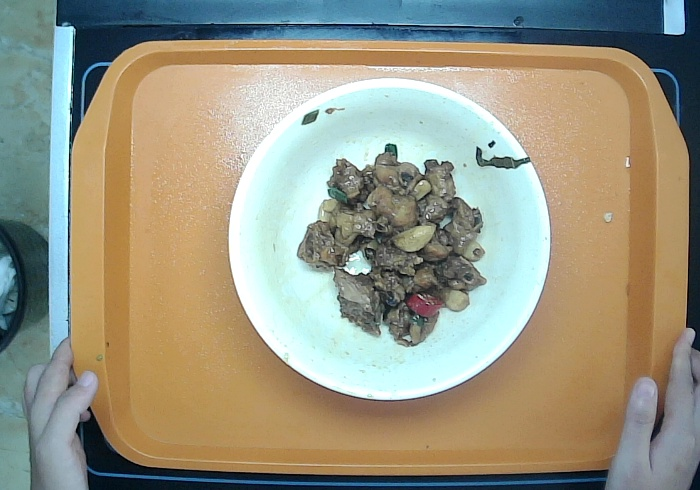ZNLD-Da_Tang_Wan: (226, 75, 553, 402)
